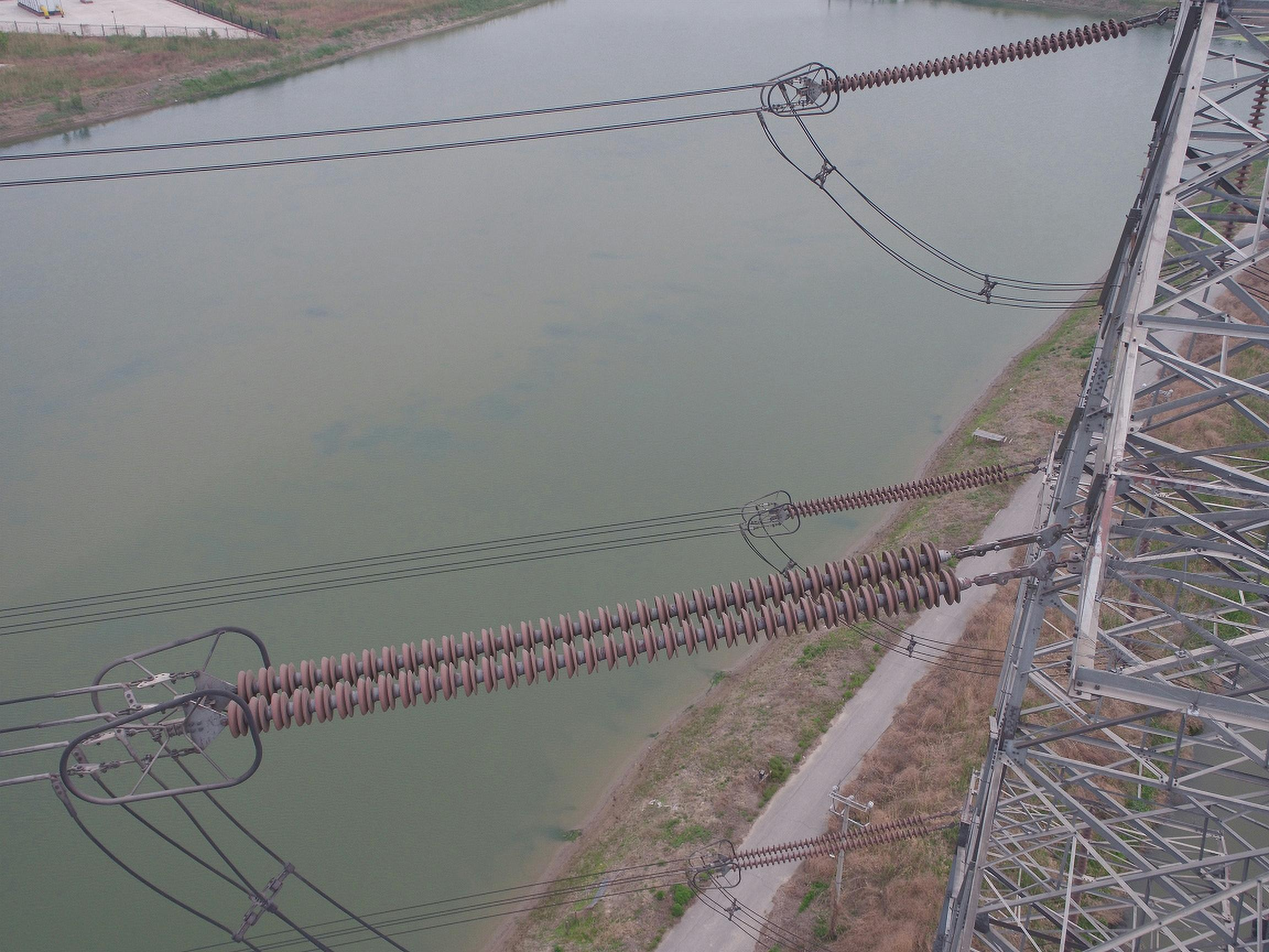insulator: (221, 537, 964, 743), (819, 17, 1132, 98), (784, 462, 1011, 521), (726, 813, 930, 874), (1212, 57, 1269, 264), (1061, 825, 1093, 952), (1120, 534, 1153, 649)
